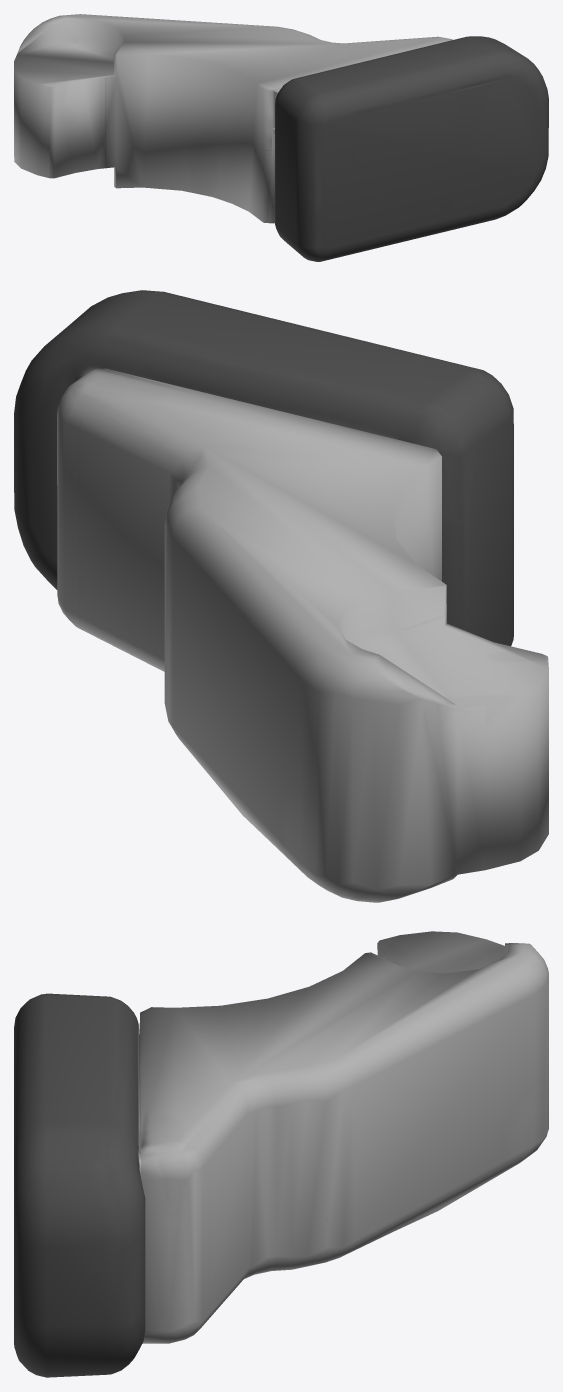
Rendered from finger_tip_l.dae.
3 views of the same model, one above another, from view 1: azimuth 30°, elevation 25°; view 2: azimuth 150°, elevation 25°; view 3: azimuth 270°, elevation 25° (orthographic). The views are drawn at different scales.
Parts seen in each view (by area): view 1: finger_tip_l_link; view 2: finger_tip_l_link; view 3: finger_tip_l_link.
Part boxes in pixels (<box>): finger_tip_l_link: <box>14,14,548,261</box>; finger_tip_l_link: <box>14,290,548,902</box>; finger_tip_l_link: <box>14,931,548,1377</box>.
Size of the model in its own units: 0.0568 by 0.0447 by 0.023.
1 material, 1 textured.
